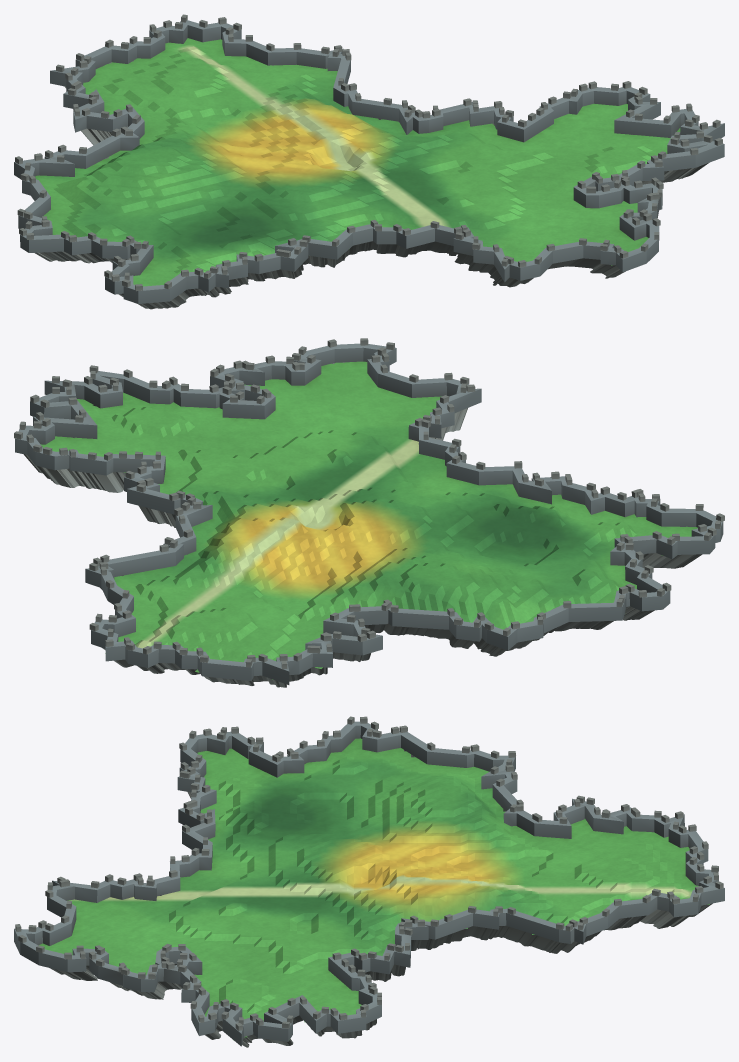
3 views of the same model, one above another, from view 1: azimuth 30°, elevation 25°; view 2: azimuth 150°, elevation 25°; view 3: azimuth 270°, elevation 25° (orthographic). The views are drawn at different scales.
Parts seen in each view (by area): view 1: ground_8386d03d; view 2: ground_8386d03d; view 3: ground_8386d03d.
Part boxes in pixels (x1=…): ground_8386d03d: x1=14, y1=14, x2=724, y2=309; ground_8386d03d: x1=14, y1=338, x2=724, y2=687; ground_8386d03d: x1=14, y1=716, x2=724, y2=1047.
Size of the model in its own units: 156 by 8.13 by 150.
2 materials, 1 textured.
